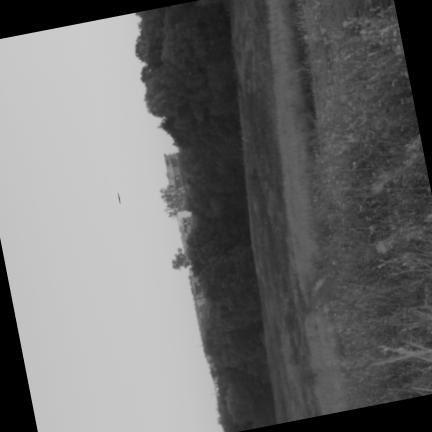Shahed: (117, 191, 121, 203)
